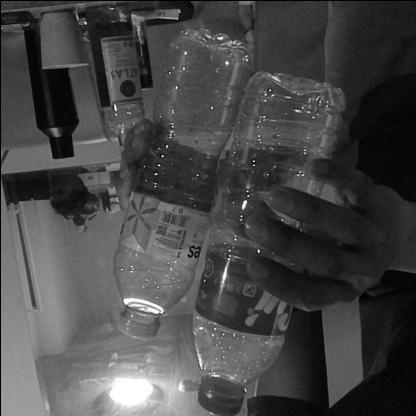plastic_bottles: (192, 67, 346, 416), (110, 30, 256, 342)
